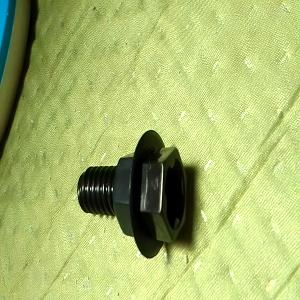parafuso: (77, 129, 187, 259)
